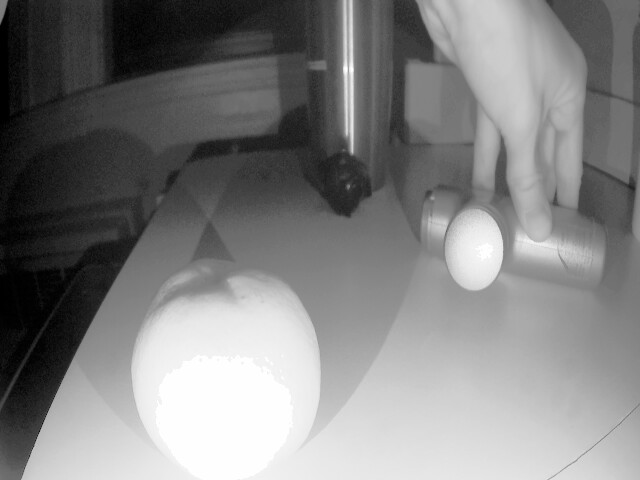black: (316, 151, 375, 202)
